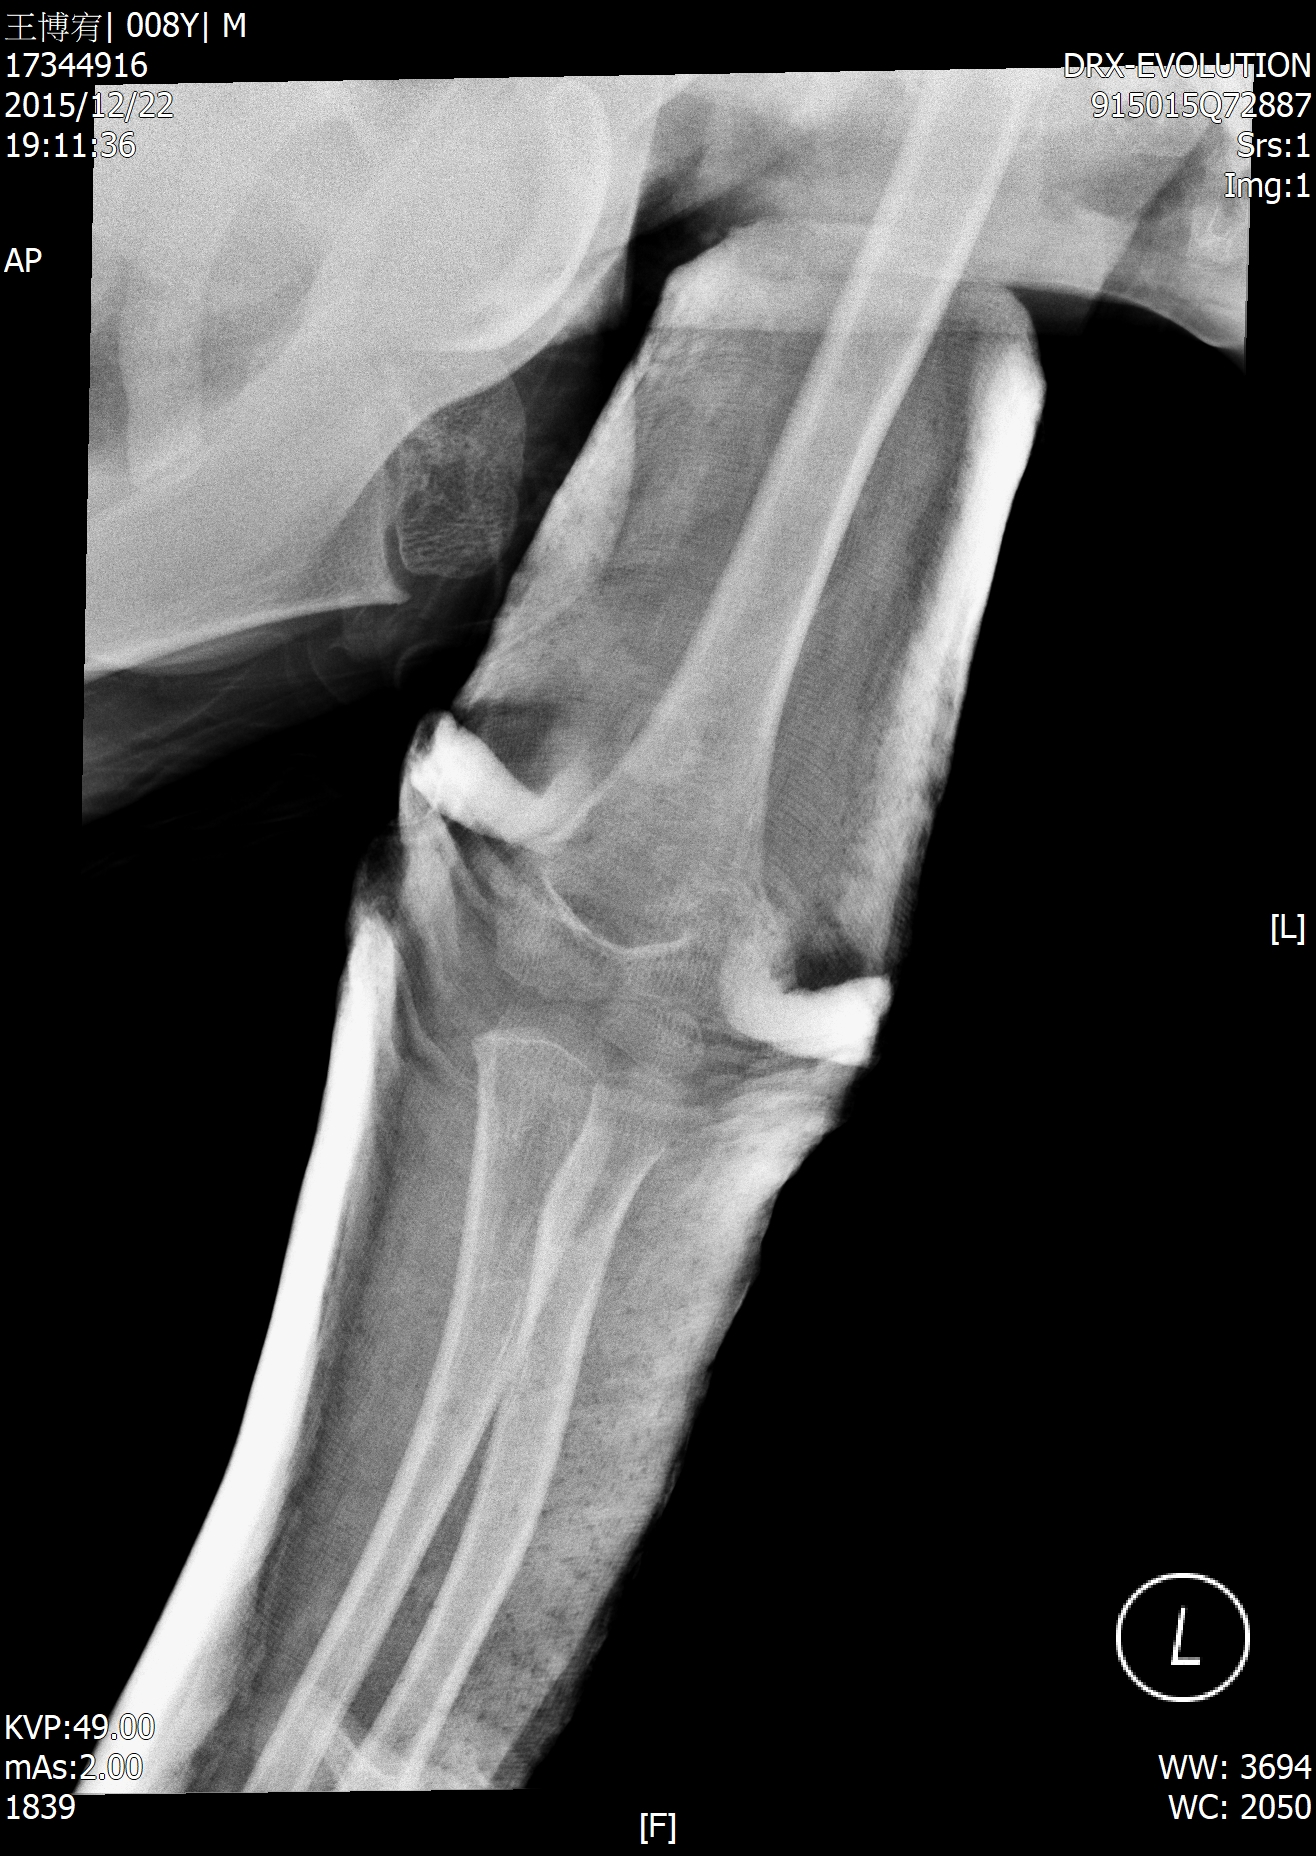SCF type 2: (254, 661, 994, 1382)
